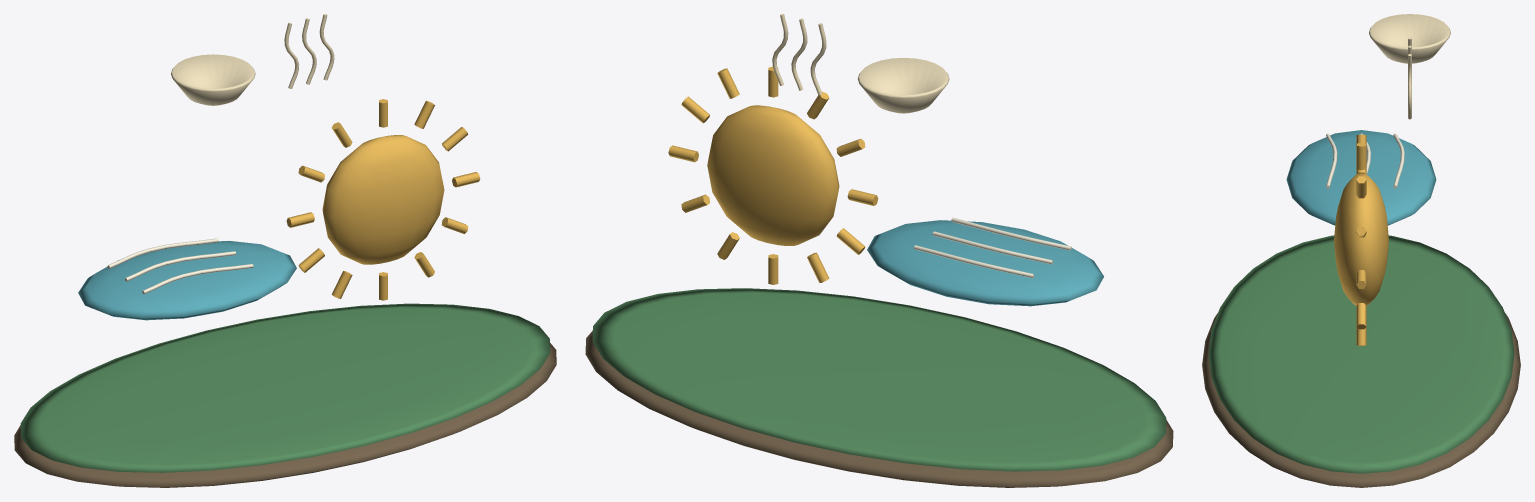
File: complete-third-sunlit-soup.glb
3 views of the same model, side by side, from view 1: azimuth 30°, elevation 25°; view 2: azimuth 150°, elevation 25°; view 3: azimuth 270°, elevation 25° (orthographic). The views are drawn at different scales.
Visible parts, largest first — view 1: complete-third-sunlit-soup_surface_01, complete-third-sunlit-soup_surface_04, complete-third-sunlit-soup_surface_02, complete-third-sunlit-soup_surface_00, complete-third-sunlit-soup_surface_05, complete-third-sunlit-soup_surface_03; view 2: complete-third-sunlit-soup_surface_01, complete-third-sunlit-soup_surface_04, complete-third-sunlit-soup_surface_02, complete-third-sunlit-soup_surface_00, complete-third-sunlit-soup_surface_05, complete-third-sunlit-soup_surface_03; view 3: complete-third-sunlit-soup_surface_01, complete-third-sunlit-soup_surface_02, complete-third-sunlit-soup_surface_04, complete-third-sunlit-soup_surface_00, complete-third-sunlit-soup_surface_05, complete-third-sunlit-soup_surface_03.
Boxes of the visible parts, x1=… form: complete-third-sunlit-soup_surface_01: x1=20, y1=303, x2=550, y2=472; complete-third-sunlit-soup_surface_04: x1=286, y1=99, x2=480, y2=300; complete-third-sunlit-soup_surface_02: x1=78, y1=241, x2=296, y2=320; complete-third-sunlit-soup_surface_00: x1=14, y1=343, x2=556, y2=487; complete-third-sunlit-soup_surface_05: x1=171, y1=14, x2=334, y2=105; complete-third-sunlit-soup_surface_03: x1=107, y1=238, x2=253, y2=294; complete-third-sunlit-soup_surface_01: x1=592, y1=288, x2=1166, y2=471; complete-third-sunlit-soup_surface_04: x1=668, y1=66, x2=878, y2=284; complete-third-sunlit-soup_surface_02: x1=867, y1=220, x2=1103, y2=306; complete-third-sunlit-soup_surface_00: x1=585, y1=331, x2=1173, y2=487; complete-third-sunlit-soup_surface_05: x1=772, y1=14, x2=949, y2=113; complete-third-sunlit-soup_surface_03: x1=913, y1=217, x2=1071, y2=278; complete-third-sunlit-soup_surface_01: x1=1208, y1=235, x2=1514, y2=473; complete-third-sunlit-soup_surface_02: x1=1286, y1=130, x2=1436, y2=225; complete-third-sunlit-soup_surface_04: x1=1334, y1=134, x2=1388, y2=345; complete-third-sunlit-soup_surface_00: x1=1202, y1=313, x2=1520, y2=487; complete-third-sunlit-soup_surface_05: x1=1369, y1=14, x2=1450, y2=119; complete-third-sunlit-soup_surface_03: x1=1326, y1=133, x2=1404, y2=188.
Size of the model in its own units: 4.56 by 3.08 by 2.5.
